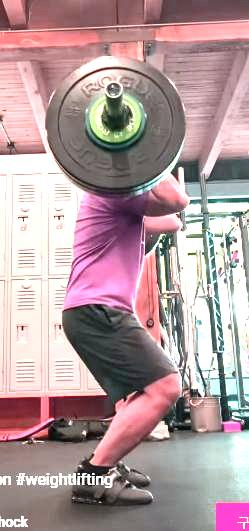Barbell: (104, 78, 127, 102)
